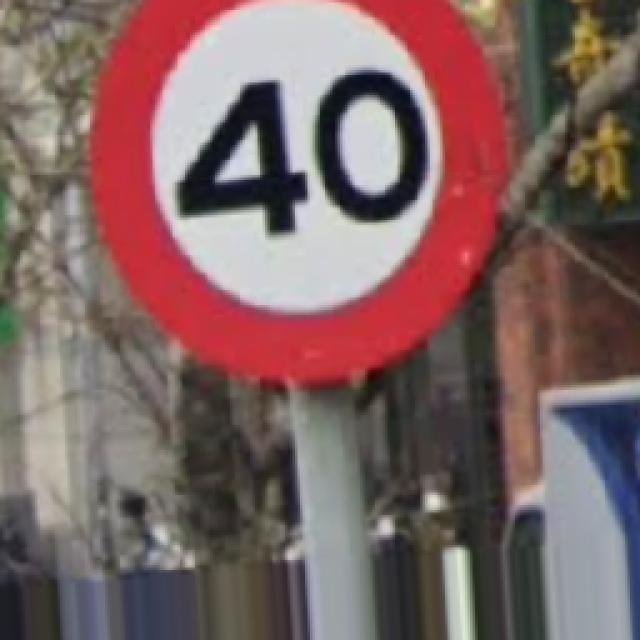Speed Limit -40-: (92, 0, 505, 382)
